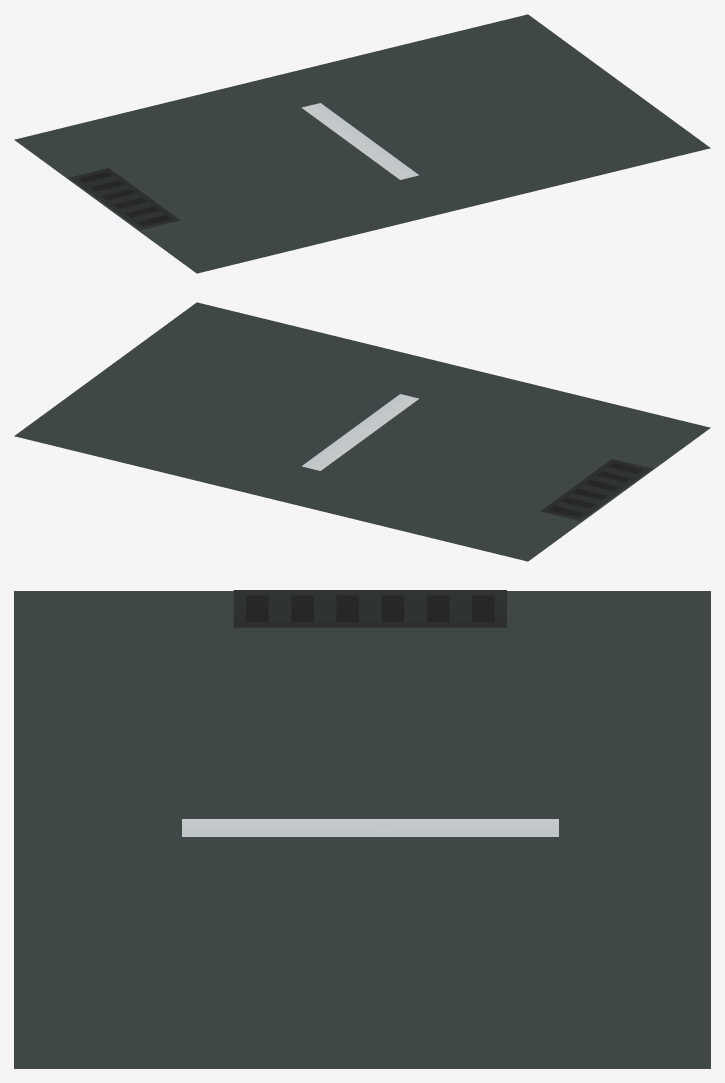
Rendered from Road_2_107.fbx.
The picture shows the model from 3 angles, top to bottom: view 1: azimuth 30°, elevation 25°; view 2: azimuth 150°, elevation 25°; view 3: azimuth 270°, elevation 25°; orthographic projection. The views are drawn at different scales.
Visible parts, largest first — view 1: Road_2_107; view 2: Road_2_107; view 3: Road_2_107.
Boxes of the visible parts, x1,y1,x2,y2 form: Road_2_107: (14, 14, 710, 273); Road_2_107: (14, 302, 710, 561); Road_2_107: (14, 590, 710, 1068).
Bounding box in the file's own units: 900 × 1.66 × 555.
